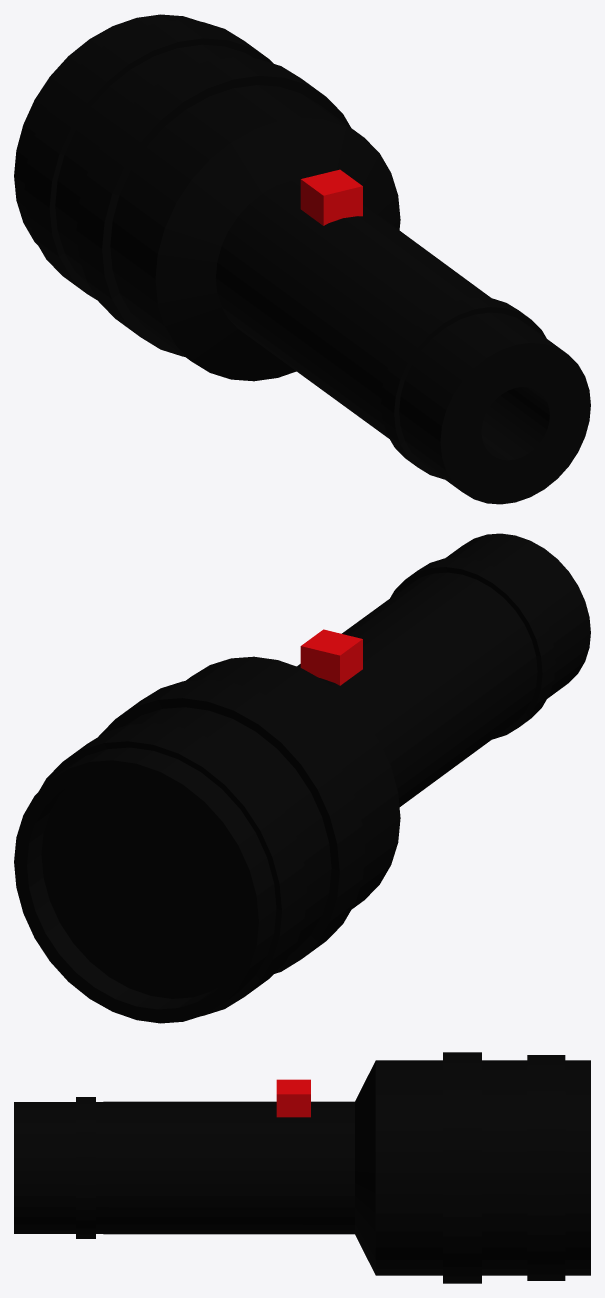
The model's file is FlashLight.fbx.
3 views of the same model, one above another, from view 1: azimuth 30°, elevation 25°; view 2: azimuth 150°, elevation 25°; view 3: azimuth 270°, elevation 25° (orthographic). The views are drawn at different scales.
Parts seen in each view (by area): view 1: Cylinder, Cube; view 2: Cylinder, Cube; view 3: Cylinder, Cube.
Part boxes in pixels (left/top/right/bottom): Cylinder: left=14, top=14, right=590, bottom=504; Cube: left=300, top=169, right=362, bottom=225; Cylinder: left=14, top=533, right=590, bottom=1023; Cube: left=300, top=629, right=362, bottom=685; Cylinder: left=14, top=1052, right=590, bottom=1283; Cube: left=276, top=1079, right=310, bottom=1117.
Size of the model in its own units: 72.15 by 72.15 by 180.
